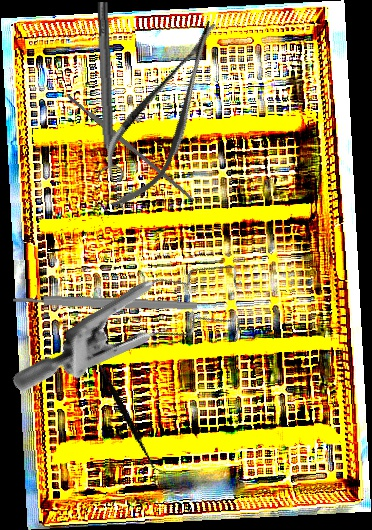Fixation Ring: (89, 1, 125, 183)
Micro Scissor: (81, 7, 245, 222)
Scalpel Handle: (65, 92, 197, 203), (12, 293, 198, 312)
Spatula Surgical: (57, 356, 198, 475)
Speculum: (9, 198, 272, 477)
